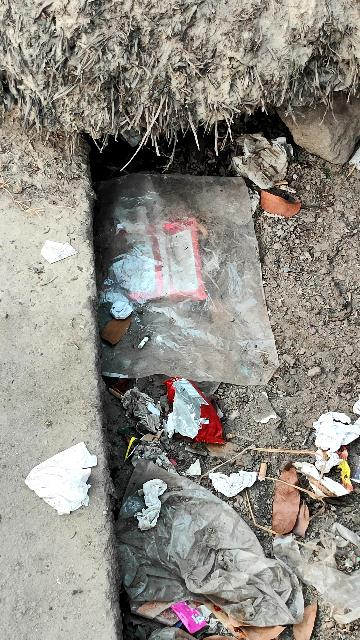polythene: (106, 178, 280, 380), (133, 467, 310, 619)
